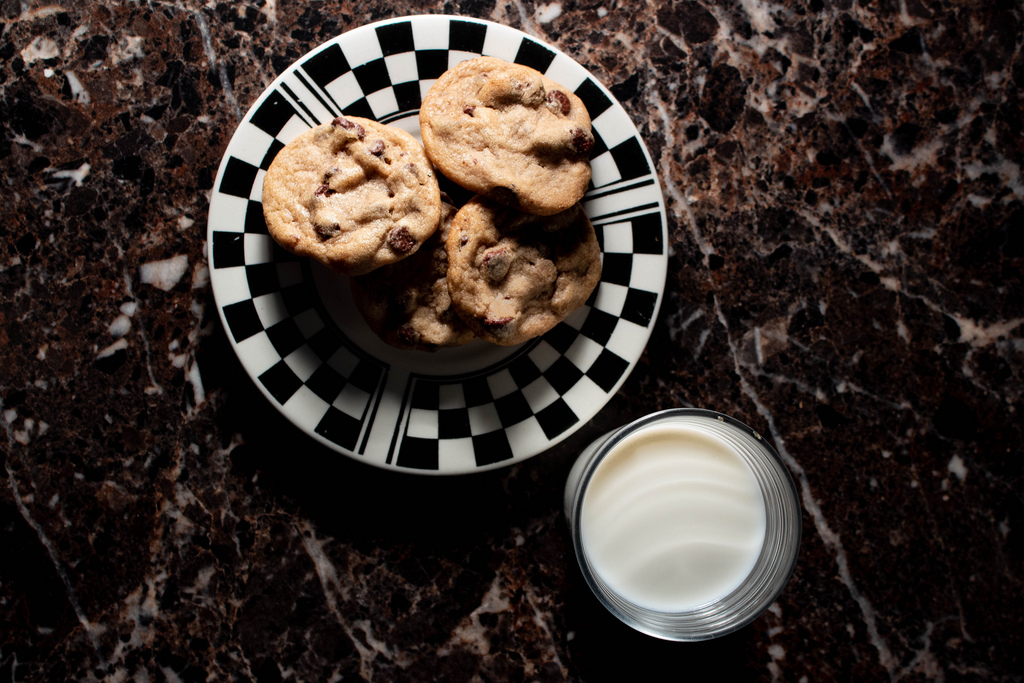glass of milk: (552, 406, 809, 644)
